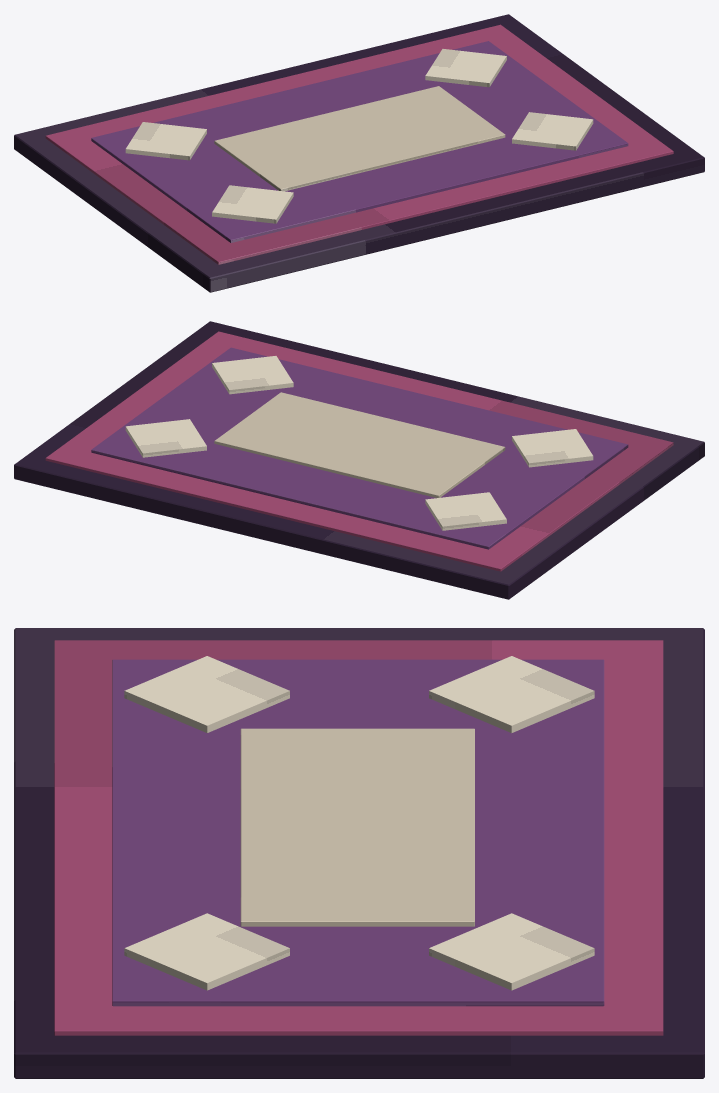
The model's file is bedroom_rug_violet.glb.
The picture shows the model from 3 angles, top to bottom: view 1: azimuth 30°, elevation 25°; view 2: azimuth 150°, elevation 25°; view 3: azimuth 270°, elevation 25°; orthographic projection. The views are drawn at different scales.
Visible parts, largest first — view 1: RugField, RugBase, RugBorderOuter, RugCenter, RugDiamond_0.52_-0.26, RugDiamond_-0.52_-0.26, RugDiamond_0.52_0.26, RugDiamond_-0.52_0.26; view 2: RugField, RugBase, RugBorderOuter, RugCenter, RugDiamond_0.52_0.26, RugDiamond_-0.52_0.26, RugDiamond_0.52_-0.26, RugDiamond_-0.52_-0.26; view 3: RugField, RugBase, RugBorderOuter, RugCenter, RugDiamond_0.52_0.26, RugDiamond_0.52_-0.26, RugDiamond_-0.52_0.26, RugDiamond_-0.52_-0.26.
Part boxes in pixels (x1,y1,x2,y2): RugField: (91,41,628,242); RugBase: (14,14,704,292); RugBorderOuter: (45,24,673,264); RugCenter: (214,86,505,191); RugDiamond_0.52_-0.26: (512,112,593,150); RugDiamond_-0.52_-0.26: (212,185,293,223); RugDiamond_0.52_0.26: (425,49,506,87); RugDiamond_-0.52_0.26: (125,122,206,160); RugField: (91,347,628,549); RugBase: (14,321,704,599); RugBorderOuter: (45,331,673,571); RugCenter: (214,392,505,497); RugDiamond_0.52_0.26: (125,419,206,457); RugDiamond_-0.52_0.26: (425,492,506,530); RugDiamond_0.52_-0.26: (212,356,293,394); RugDiamond_-0.52_-0.26: (512,429,593,467); RugField: (112,659,604,1006); RugBase: (14,628,704,1078); RugBorderOuter: (54,640,663,1035); RugCenter: (240,728,474,926); RugDiamond_0.52_0.26: (429,913,594,990); RugDiamond_0.52_-0.26: (124,913,289,990); RugDiamond_-0.52_0.26: (429,656,594,732); RugDiamond_-0.52_-0.26: (124,656,289,732).
Size of the model in its own units: 1.72 by 0.089 by 1.18.
Materials: 1 (1 with a texture image).
